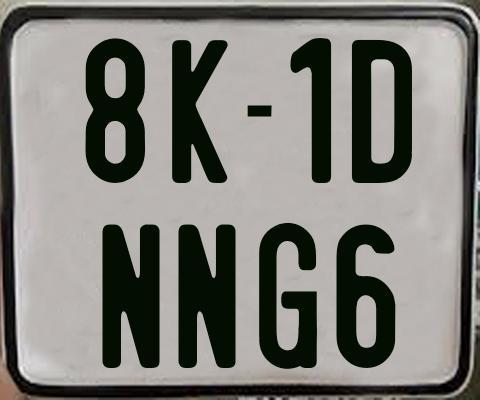1: (288, 35, 330, 182)
6: (333, 224, 393, 370)
8: (84, 37, 150, 187)
D: (350, 38, 415, 184)
G: (258, 221, 317, 367)
K: (172, 39, 232, 183)
N: (102, 224, 164, 370), (177, 222, 237, 368)
